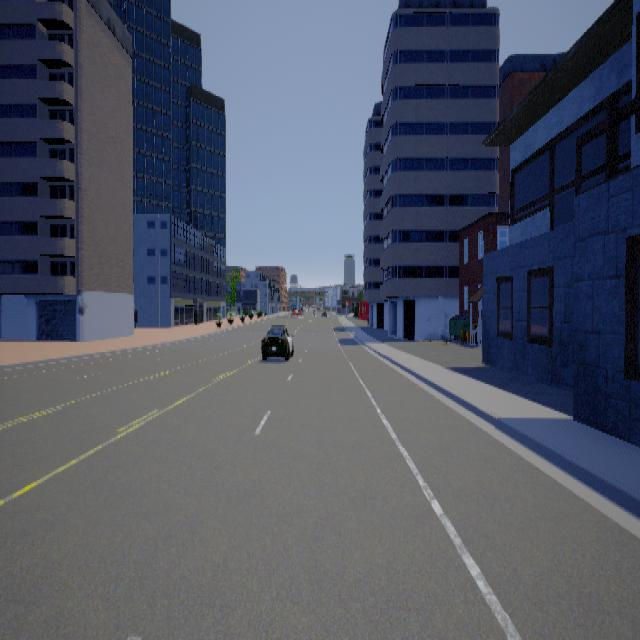traffic_light: (262, 301, 264, 305)
vehicle: (260, 324, 293, 361)
